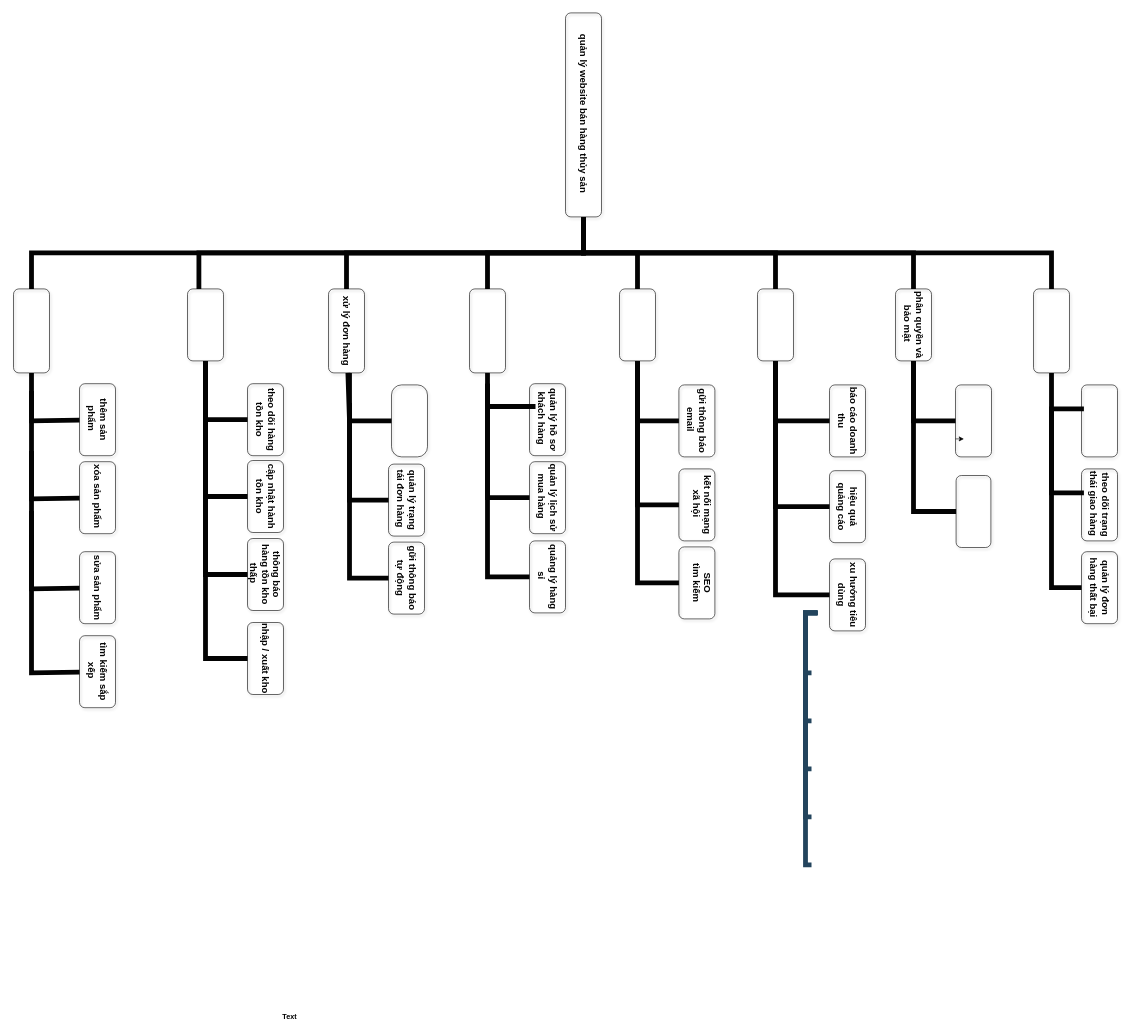
This 1132x1036 diagram has some shape labels left out. The shapes that lost their labels are listed below. From the top down, each one's centre as x and y in pixels, then its label:
the point at 31,331: quản lý sản phẩm
the point at 205,325: quản lý kho hàng
the point at 487,331: quản lý khách hàng
the point at 637,325: chức năng marketing
the point at 775,325: chức năng phân tích báo cáo
the point at 1051,331: chức năng giao hàng
the point at 409,421: quản lý quy trình đặt hàng
the point at 973,421: phân quyền người dùng
the point at 1099,421: kết nối dịch vụ giao hàng
the point at 974,512: bảo mật dữ liệu
